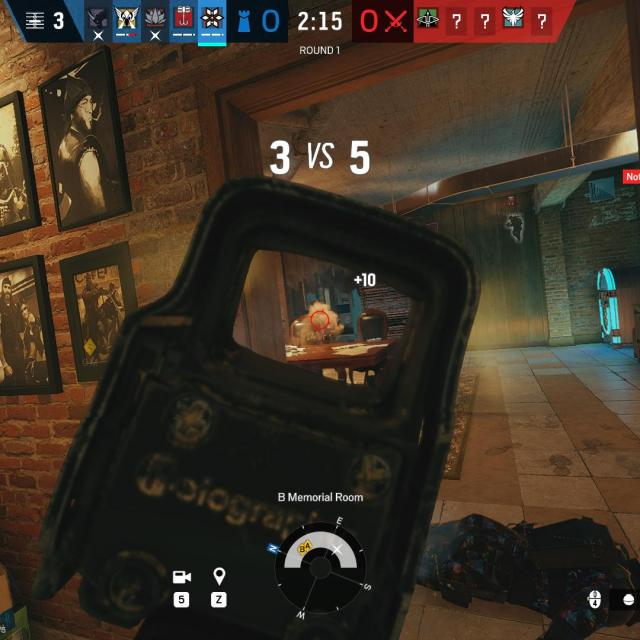Friend_label: (496, 194, 526, 218)
